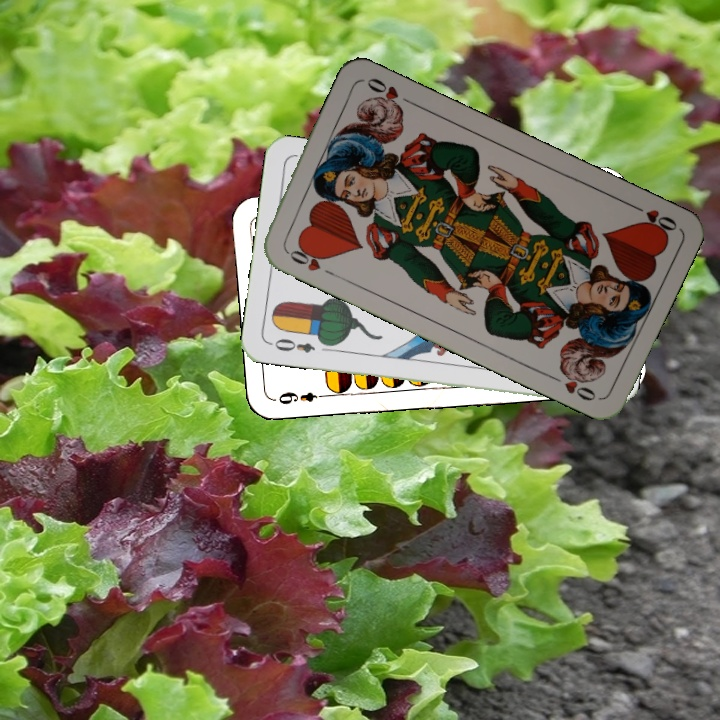E9: (271, 388, 330, 407)
EO: (265, 334, 317, 356)
HO: (624, 199, 680, 238), (282, 240, 337, 278)
